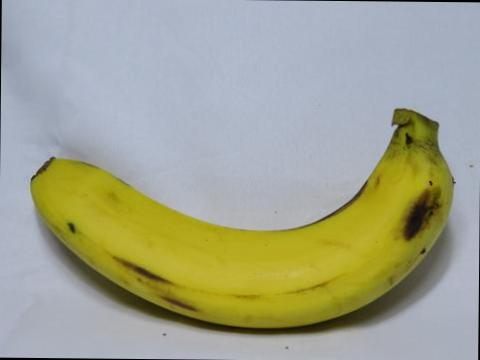freshripe: (18, 80, 471, 342)
